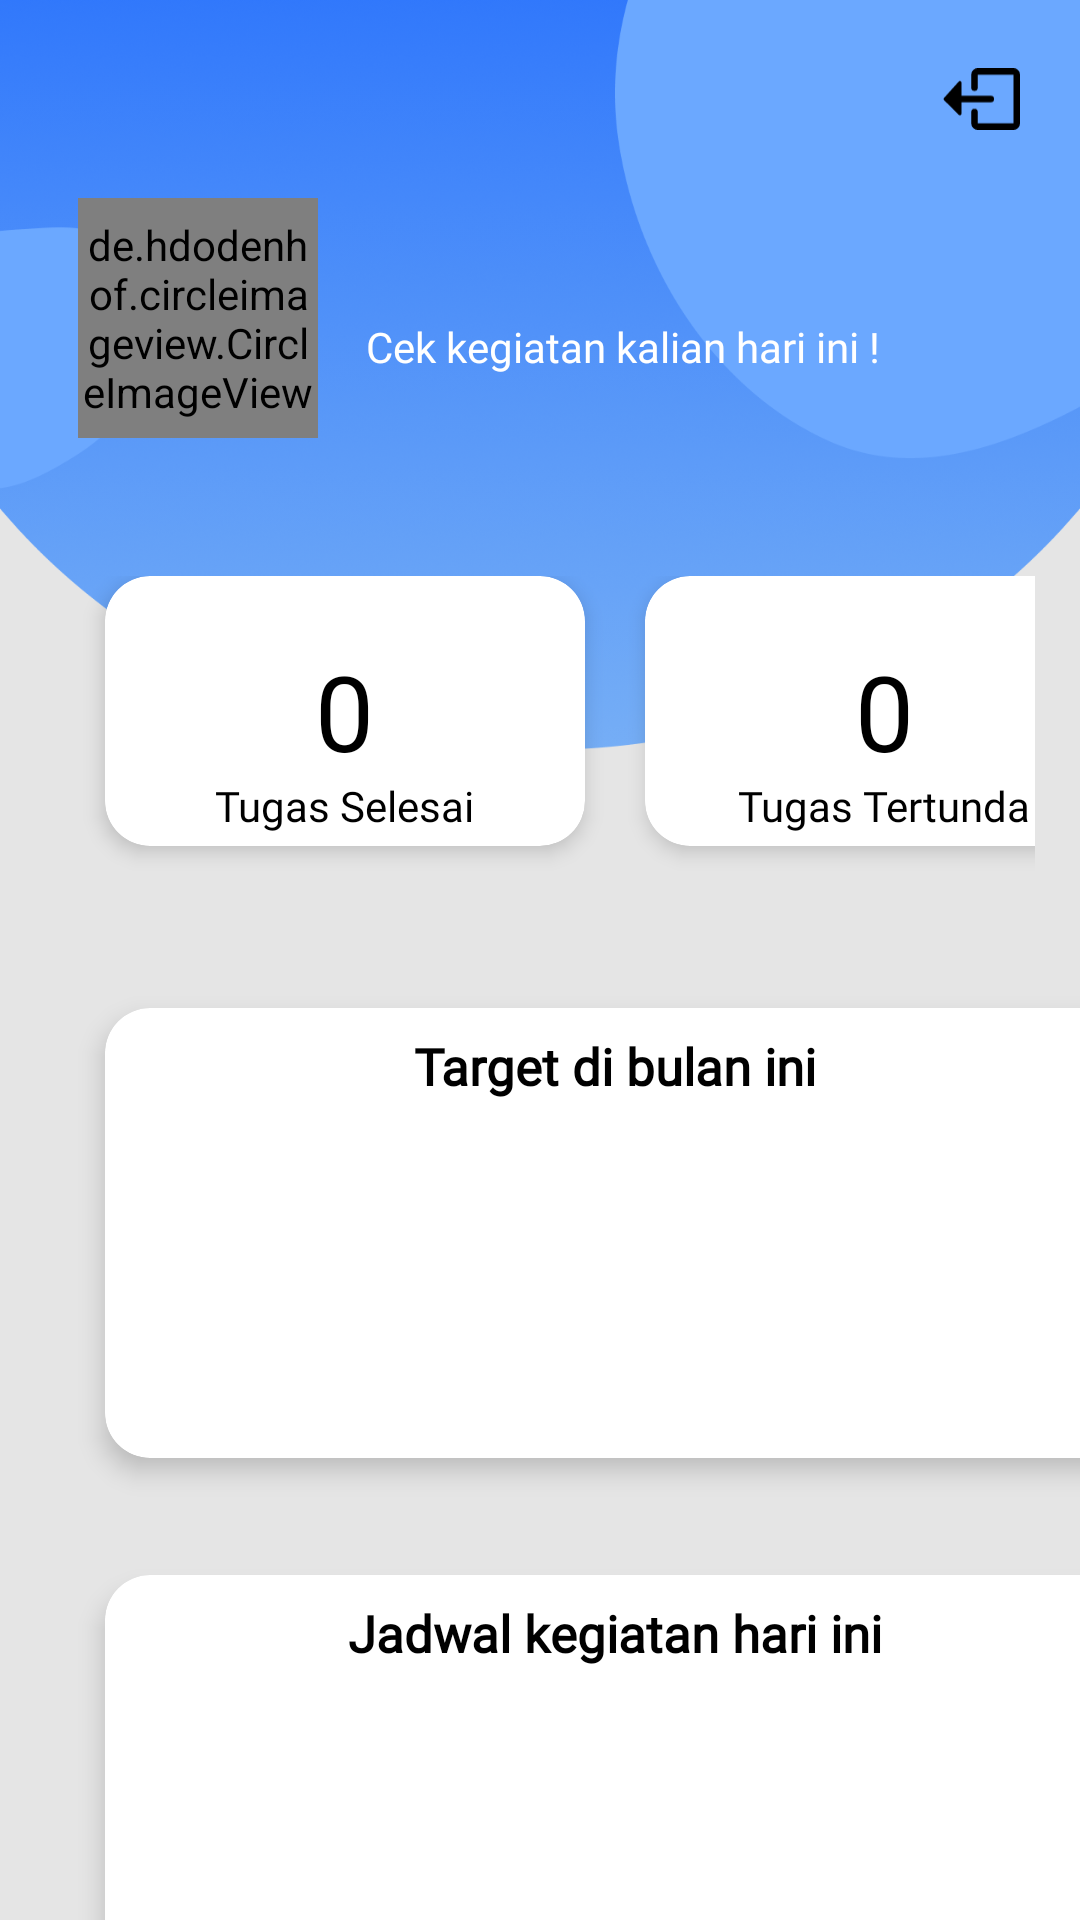

Screen size 1080 x 1920. Icon name, then its box in pixels as (x1, y1, x2, y2):
exit: (943, 68, 1020, 130)
